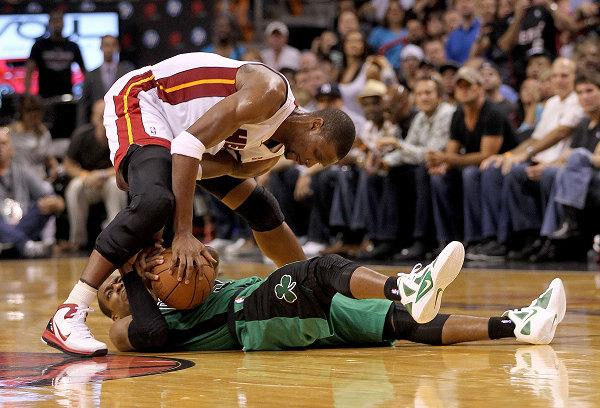bending: (43, 46, 351, 253)
down: (81, 228, 569, 357)
